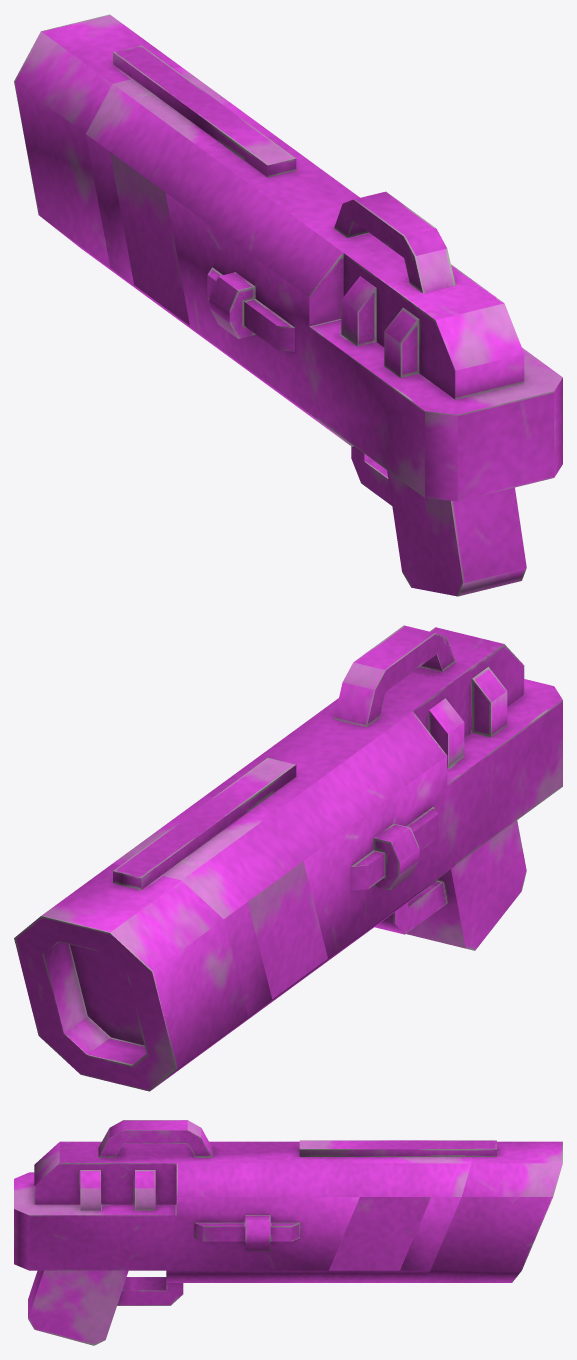
Rendered from blaster-h.glb.
3 renders of one model, top to bottom at view 1: azimuth 30°, elevation 25°; view 2: azimuth 150°, elevation 25°; view 3: azimuth 270°, elevation 25°, orthographic. The views are drawn at different scales.
Parts seen in each view (by area): view 1: blaster-h; view 2: blaster-h; view 3: blaster-h.
Boxes of the visible parts, x1=… form: blaster-h: x1=14, y1=14, x2=562, y2=596; blaster-h: x1=14, y1=625, x2=562, y2=1091; blaster-h: x1=14, y1=1120, x2=562, y2=1345.
Bounding box in the file's own units: 0.165 × 0.2745 × 0.648.
Materials: 1 (1 with a texture image).
